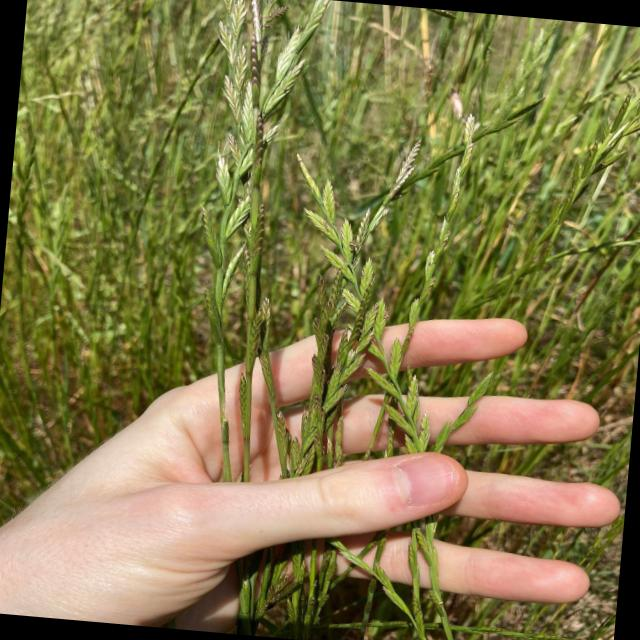Lolium: (258, 155, 492, 628), (283, 102, 483, 572), (252, 126, 418, 630), (180, 0, 328, 488), (408, 90, 549, 195)
